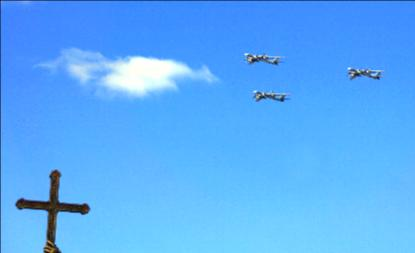Su57: (346, 66, 388, 80), (252, 89, 292, 101), (244, 52, 284, 64)
